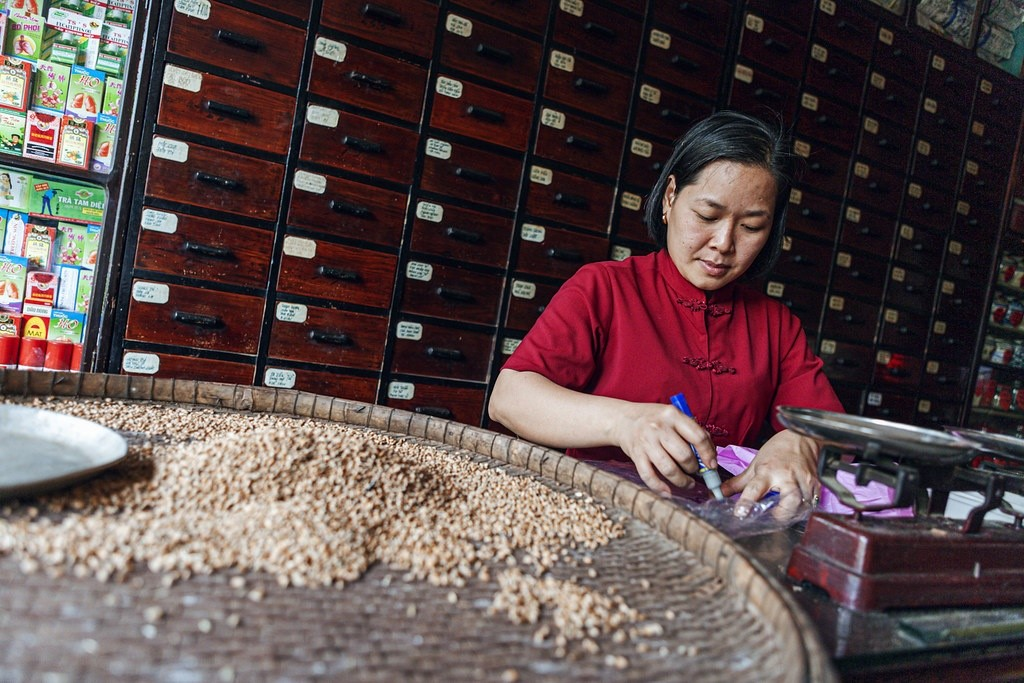face_no_mask: (653, 111, 783, 292)
